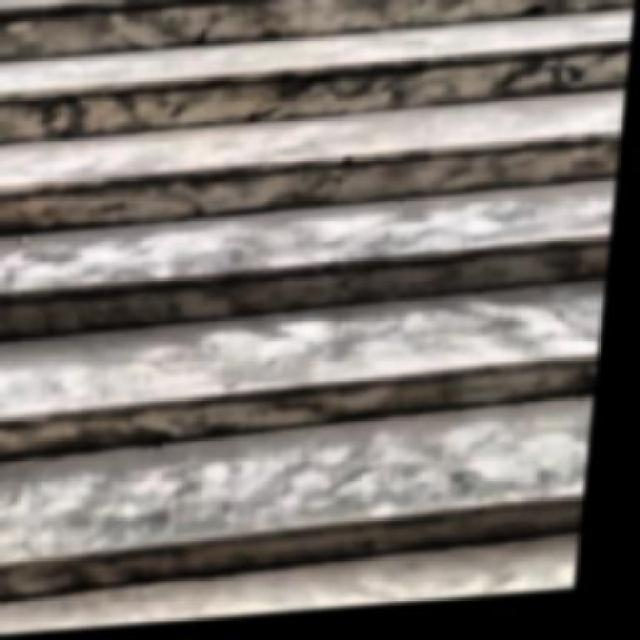stair: (0, 0, 638, 607)
